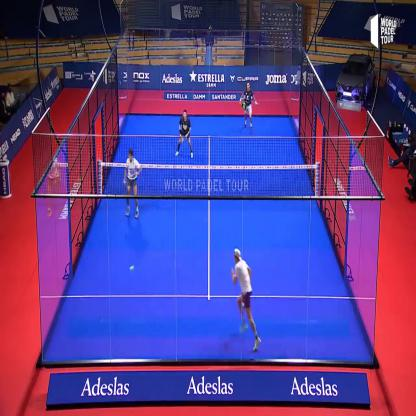ball: (128, 261, 136, 275)
